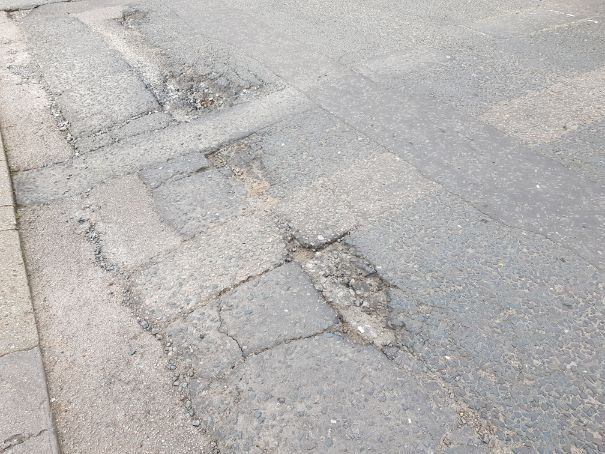pothole: (276, 230, 411, 360), (199, 134, 275, 195), (163, 64, 251, 112), (108, 7, 151, 32), (0, 4, 37, 23)
